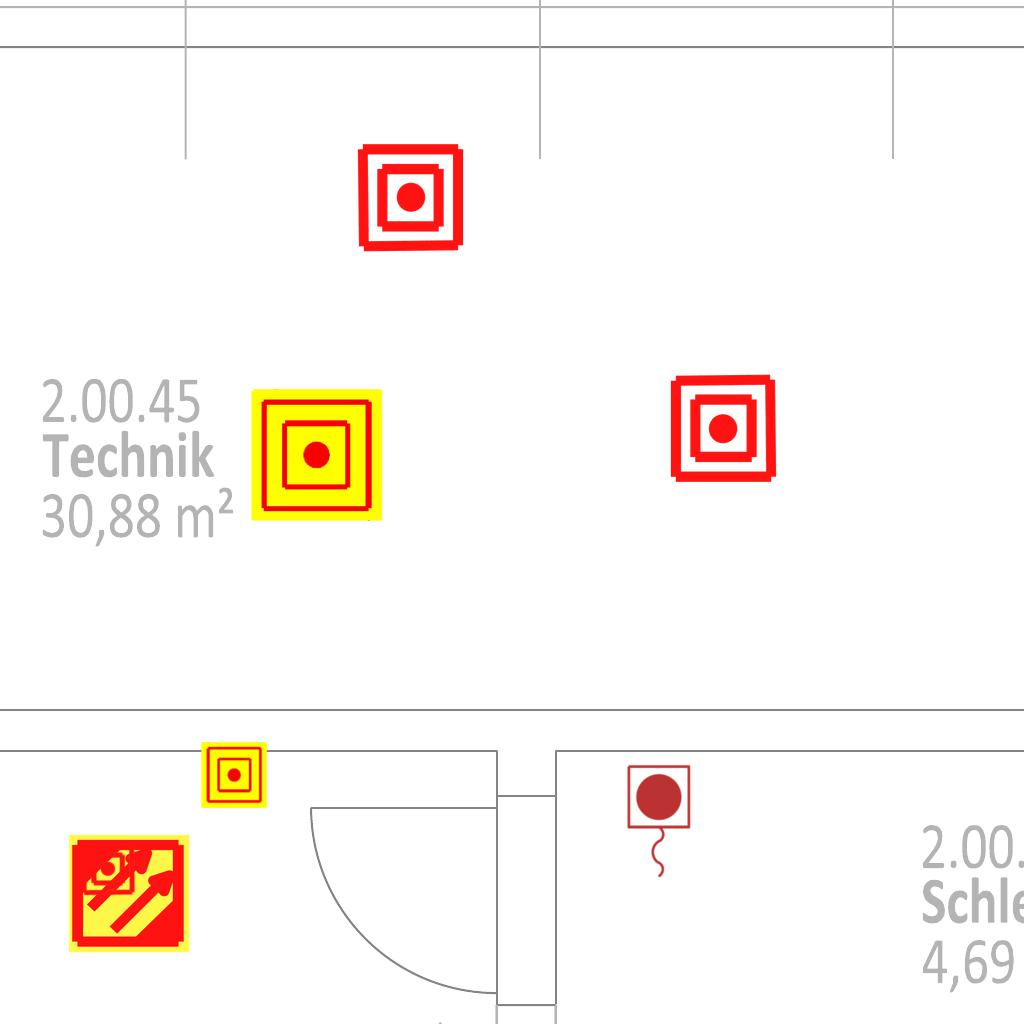ASR_Ansaugrauchmelder: (67, 831, 192, 956)
NAM-Nichtautomatischer_Melder: (251, 389, 383, 521), (354, 141, 467, 254), (667, 372, 780, 485), (201, 742, 267, 808), (80, 841, 136, 897)
Zugtaster: (622, 761, 694, 883)
